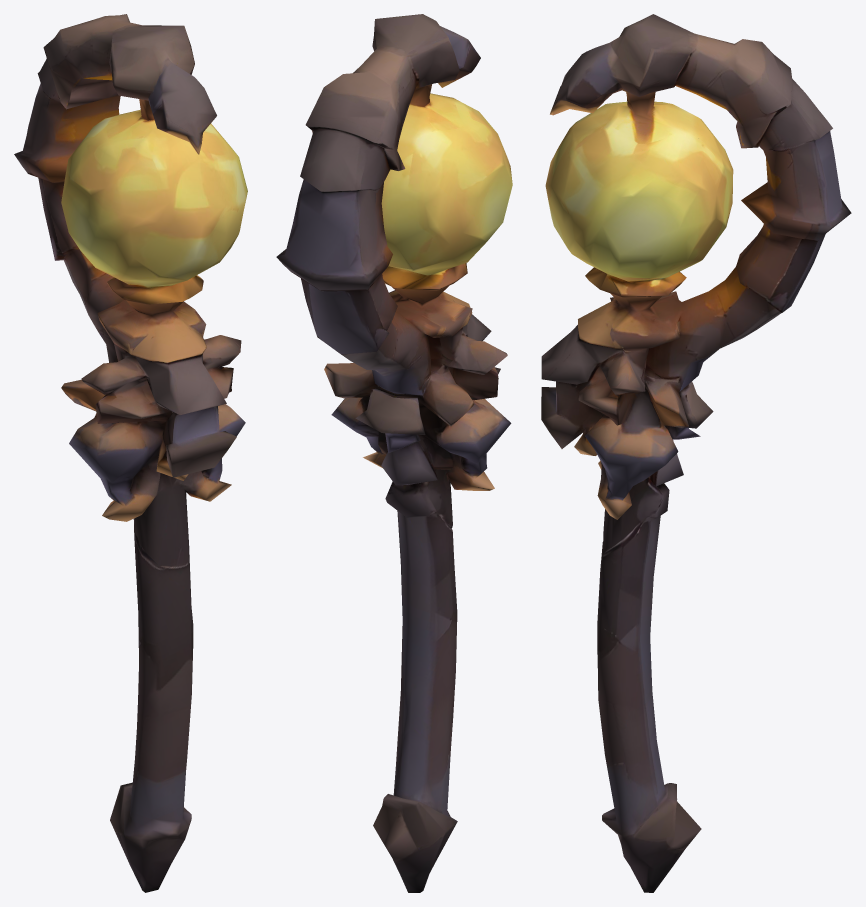
File: item_battlestaff.glb
3 views of the same model, side by side, from view 1: azimuth 30°, elevation 25°; view 2: azimuth 150°, elevation 25°; view 3: azimuth 270°, elevation 25° (orthographic).
Visible parts, largest first — view 1: tripo_node_c5856fad-ad79-41a5-a8ff-20c8ba4c91dd; view 2: tripo_node_c5856fad-ad79-41a5-a8ff-20c8ba4c91dd; view 3: tripo_node_c5856fad-ad79-41a5-a8ff-20c8ba4c91dd.
Part boxes in pixels (x1=…): tripo_node_c5856fad-ad79-41a5-a8ff-20c8ba4c91dd: x1=14, y1=14, x2=247, y2=892; tripo_node_c5856fad-ad79-41a5-a8ff-20c8ba4c91dd: x1=276, y1=14, x2=512, y2=892; tripo_node_c5856fad-ad79-41a5-a8ff-20c8ba4c91dd: x1=541, y1=14, x2=851, y2=892.
Bounding box in the file's own units: 0.1951 × 1 × 0.3246.
Materials: 1 (1 with a texture image).
